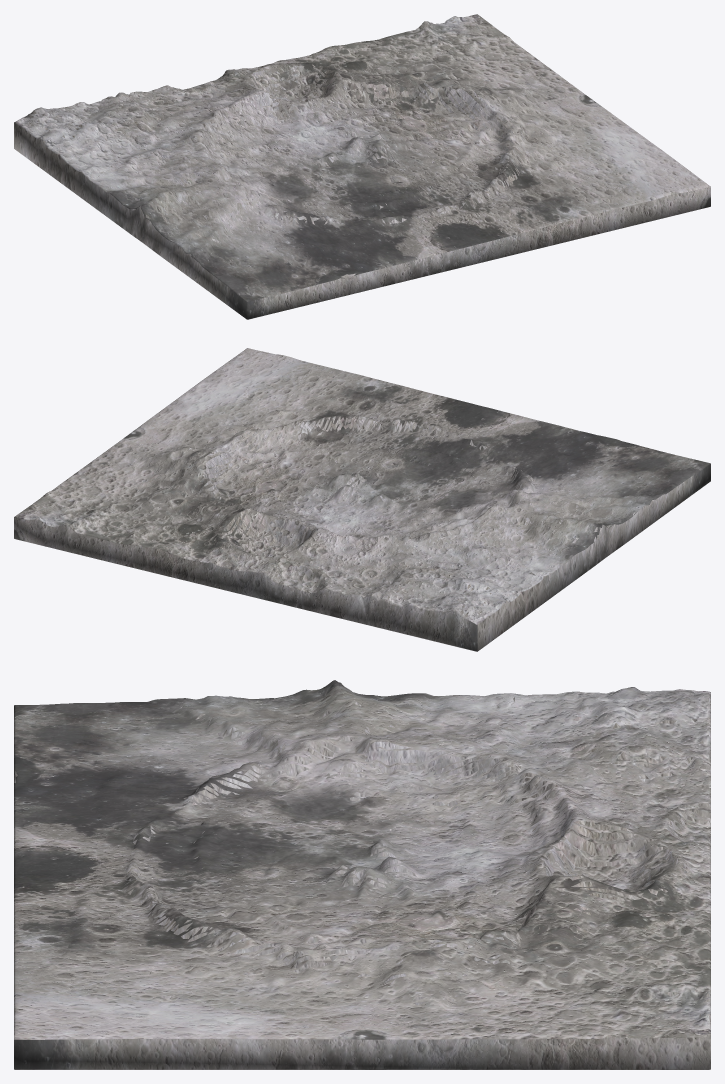
Rendered from moon_terrain.glb.
3 renders of one model, top to bottom at view 1: azimuth 30°, elevation 25°; view 2: azimuth 150°, elevation 25°; view 3: azimuth 270°, elevation 25°, orthographic. The views are drawn at different scales.
Parts seen in each view (by area): view 1: Moon - Gassendi Crater; view 2: Moon - Gassendi Crater; view 3: Moon - Gassendi Crater.
Boxes of the visible parts, x1,y1,x2,y2 form: Moon - Gassendi Crater: [14, 14, 710, 319]; Moon - Gassendi Crater: [14, 348, 710, 651]; Moon - Gassendi Crater: [14, 680, 710, 1069].
Bounding box in the file's own units: 185 × 15.95 × 162.
Materials: 1 (1 with a texture image).
